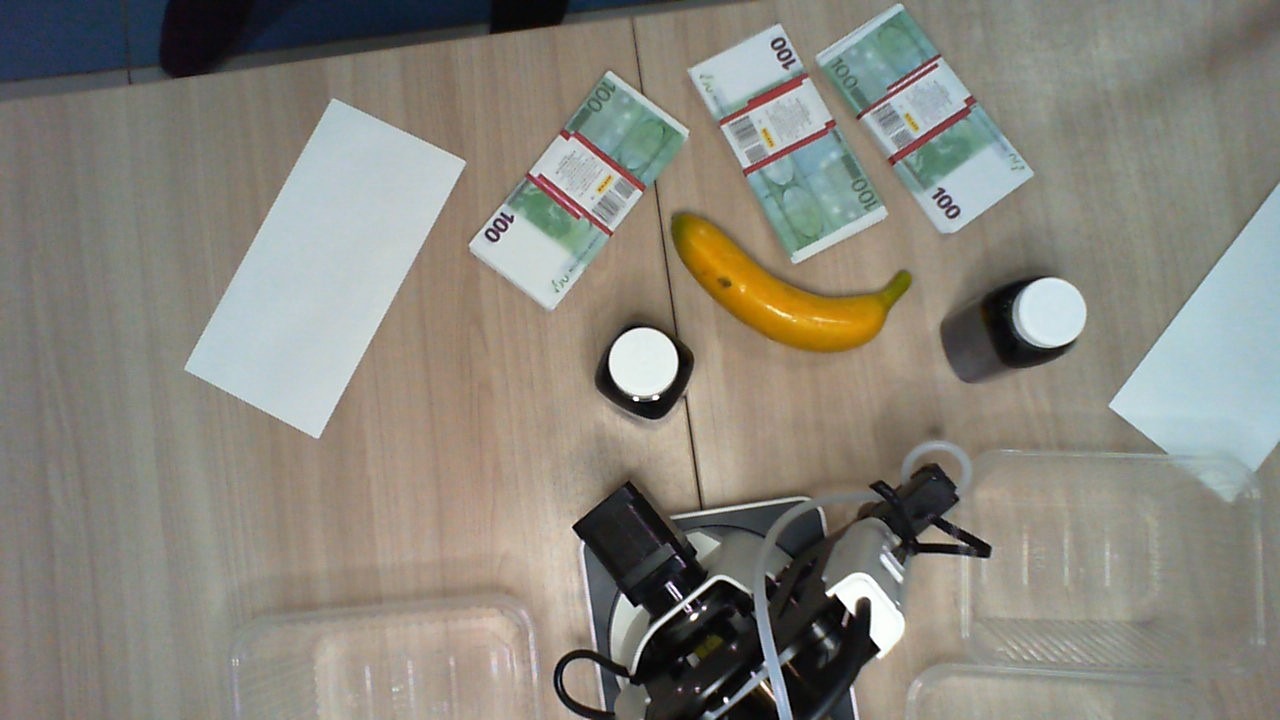banana: (671, 210, 913, 355)
bottle: (986, 273, 1091, 368), (594, 322, 693, 414)
convert: (183, 94, 466, 439), (1112, 182, 1279, 500)
money: (468, 66, 691, 311), (819, 1, 1037, 237), (691, 20, 888, 266)
